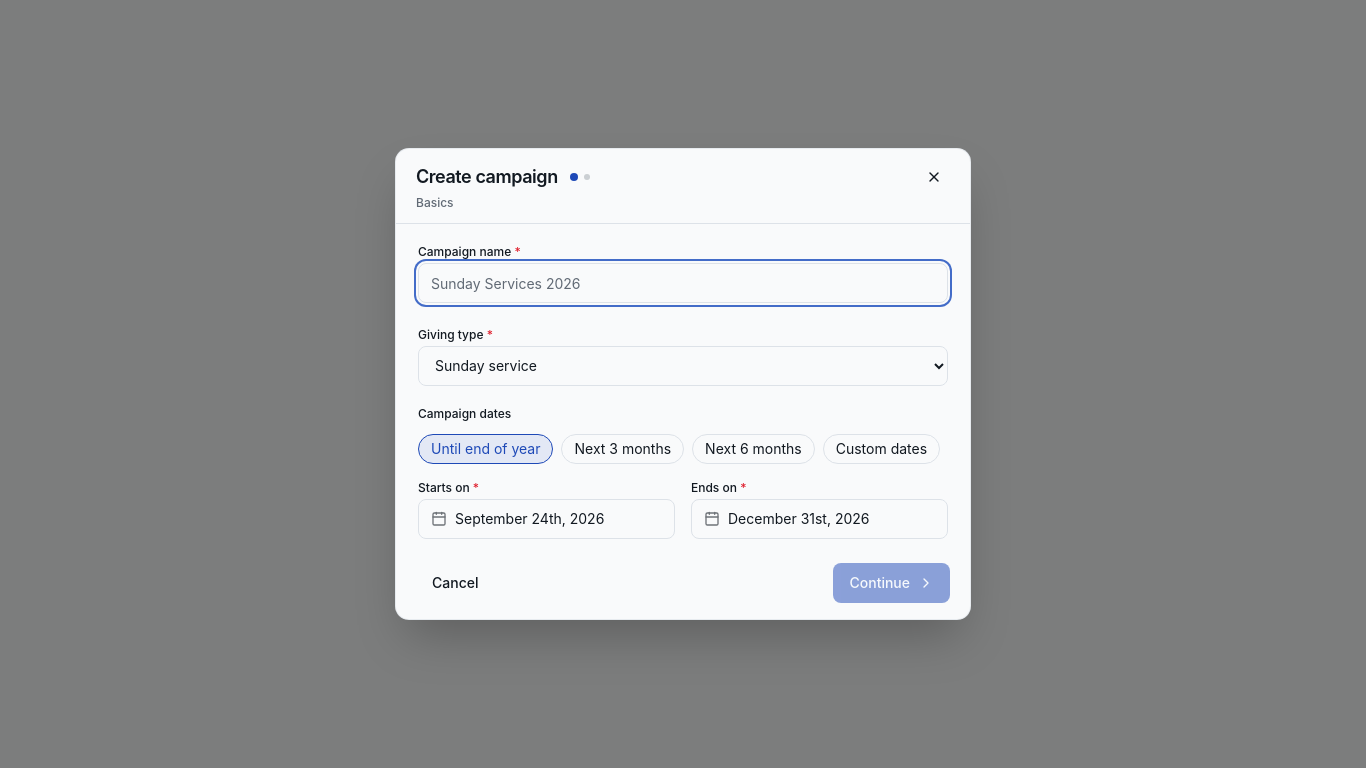
Test case: CreateProgramWizard › uses two steps with date presets on basics
Check: the text "Basics" is shown, box [416,195,454,210]
Check: the button "Until end of year" is shown, box [418,434,554,464]
Type "Sunday Services" into the field with id "wizard-title" at (683, 283), box [418,263,948,303]
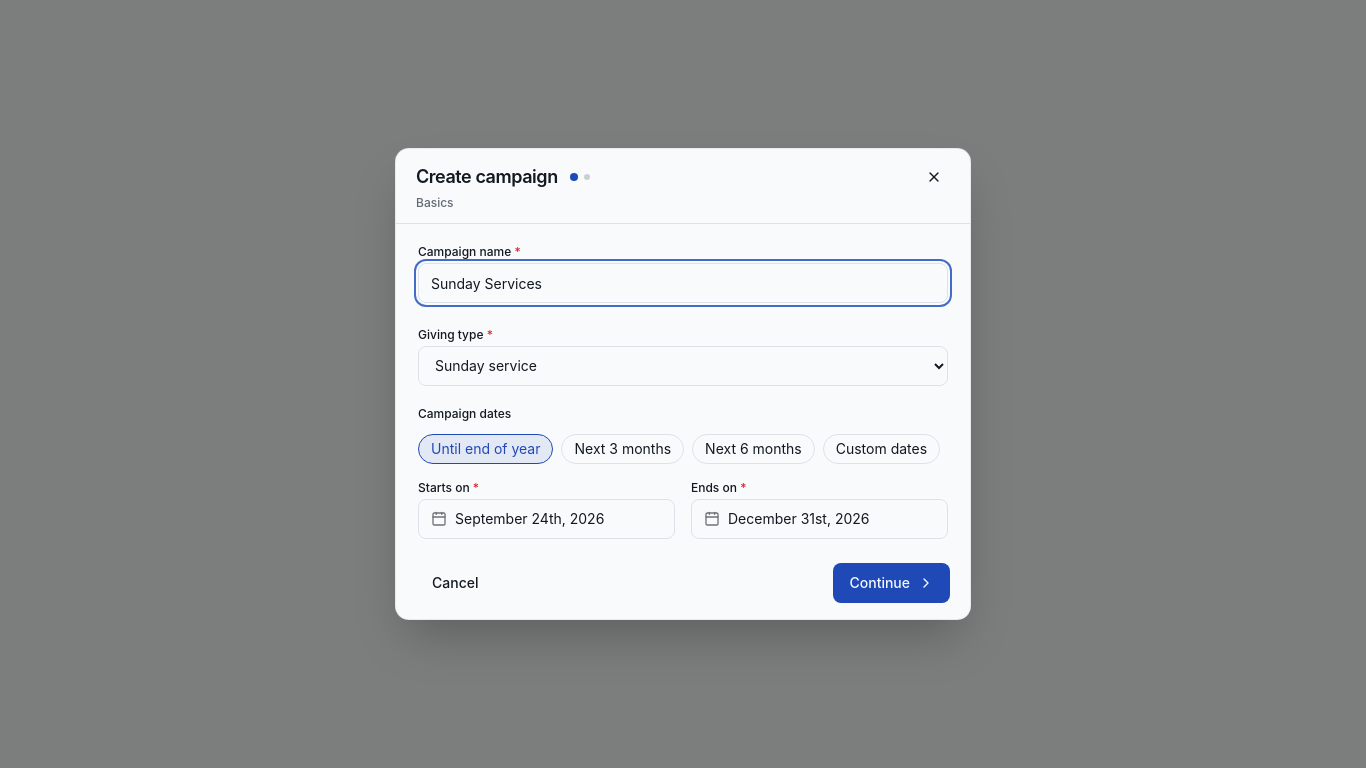
Click the button "Continue" at (892, 583), box [834,563,950,603]
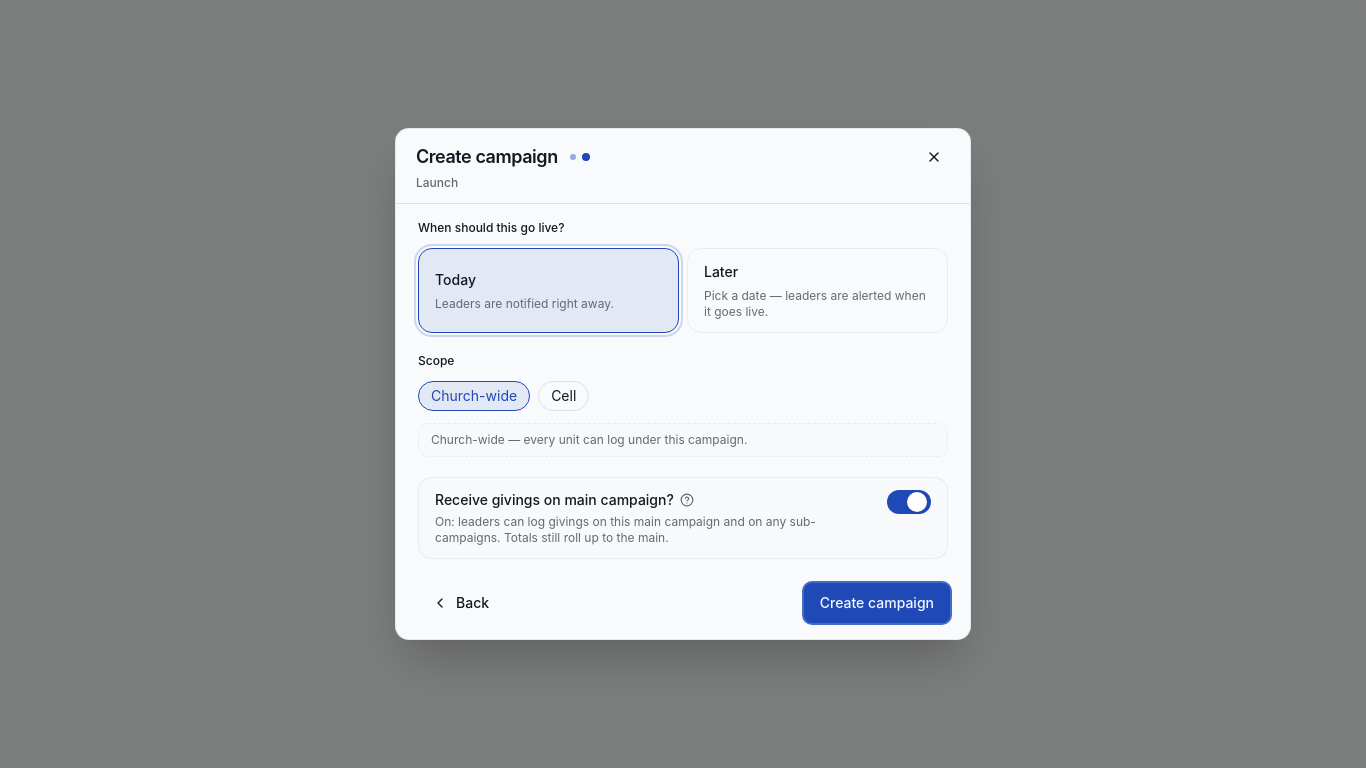
Check: the text "Launch" is shown, box [416,175,458,190]
Check: the text "When should this go live?" is shown, box [418,220,564,235]
Check: the text "Receive givings on main campaign?" is shown, box [435,491,694,508]
